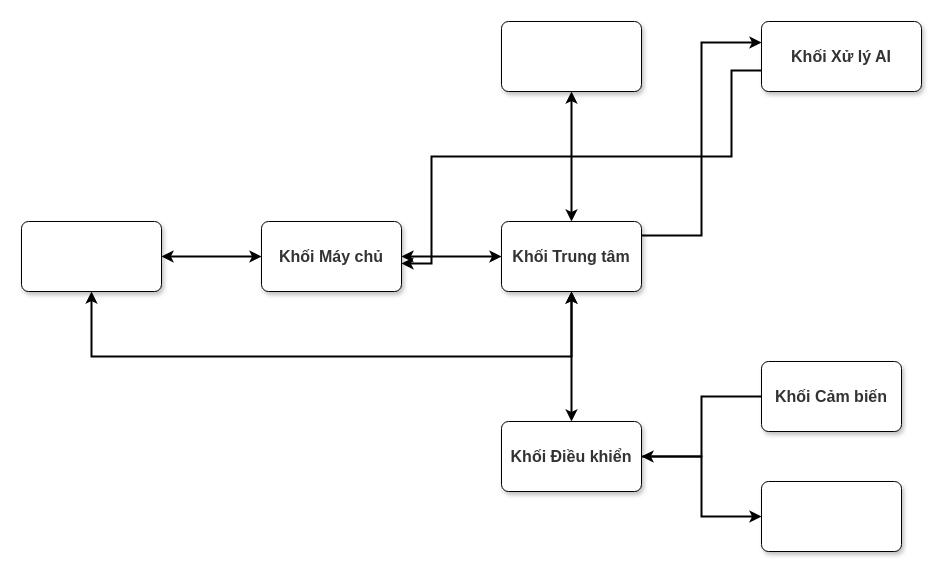
Image size: 945x576. Some labels were removed from this diagram. The shapes that lost their labels are listed below. From the top down, each one's centre as x and y in pixels, then its label:
At point 572,57: "Khối Hình ảnh".
At point 92,257: "Khối Giám sát".
At point 832,517: "Khối Chấp hành".
